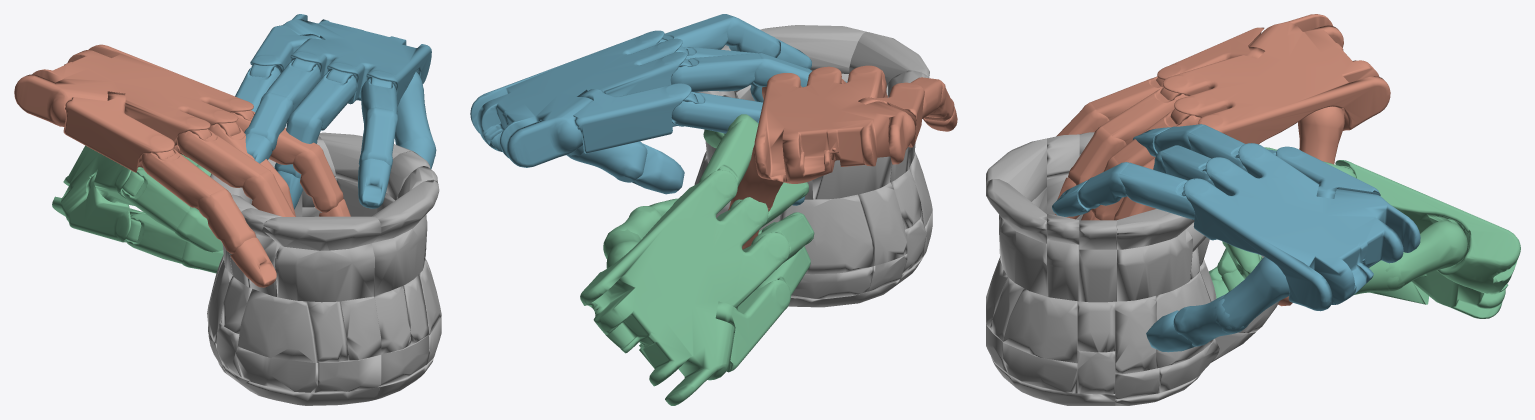
3 renders of one model, left to right at view 1: azimuth 30°, elevation 25°; view 2: azimuth 150°, elevation 25°; view 3: azimuth 270°, elevation 25°, orthographic. The views are drawn at different scales.
Bounding box in the file's own units: 0.2664 × 0.1583 × 0.2939.
